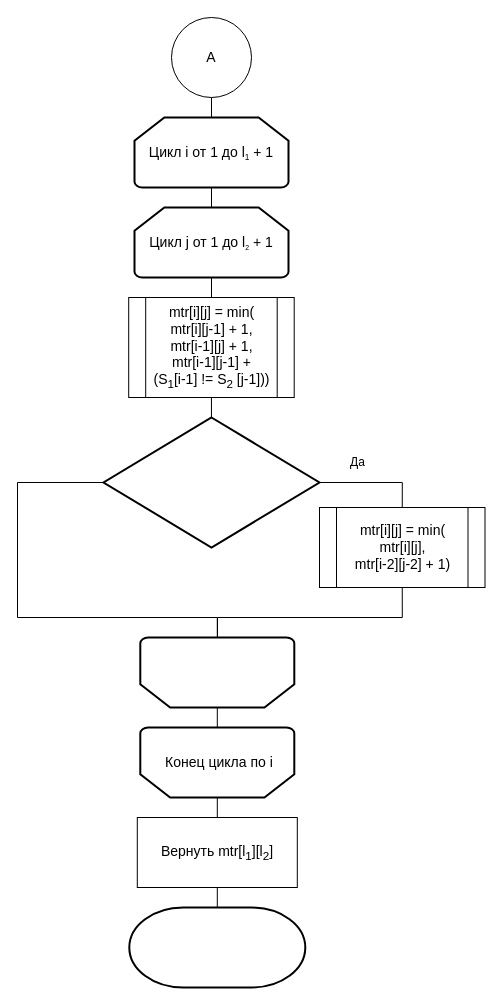
This 503x1006 diagram has some shape labels left out. The centre of each missing label's shape, as x and y in pixels:
"i > 1 and j > 1 and S 1 [i-1] =S 2 [j-2] and S 1 [i-2] =S 2 [j-1]" goes at point 211,482.
"Конец" goes at point 217,947.
"Конец цикла по j" goes at point 217,672.
